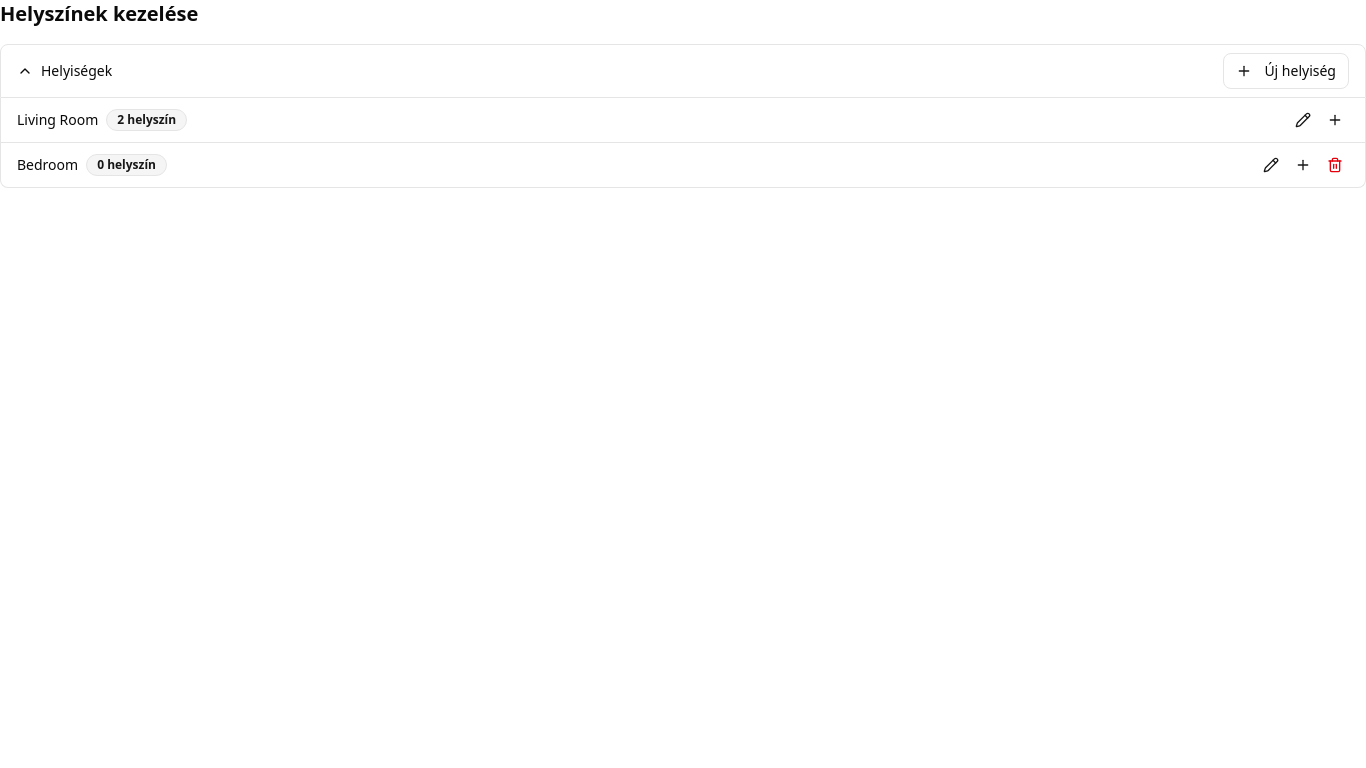
Scenario: LocationManagementPage — ADMIN interactions › clicking edit room button opens room form modal
Check: the text "Living Room" is shown, box [17,110,98,130]
Click the button named "Szerkesztés" in the row of "Living Room" at (1303, 120), box [1289,106,1317,134]
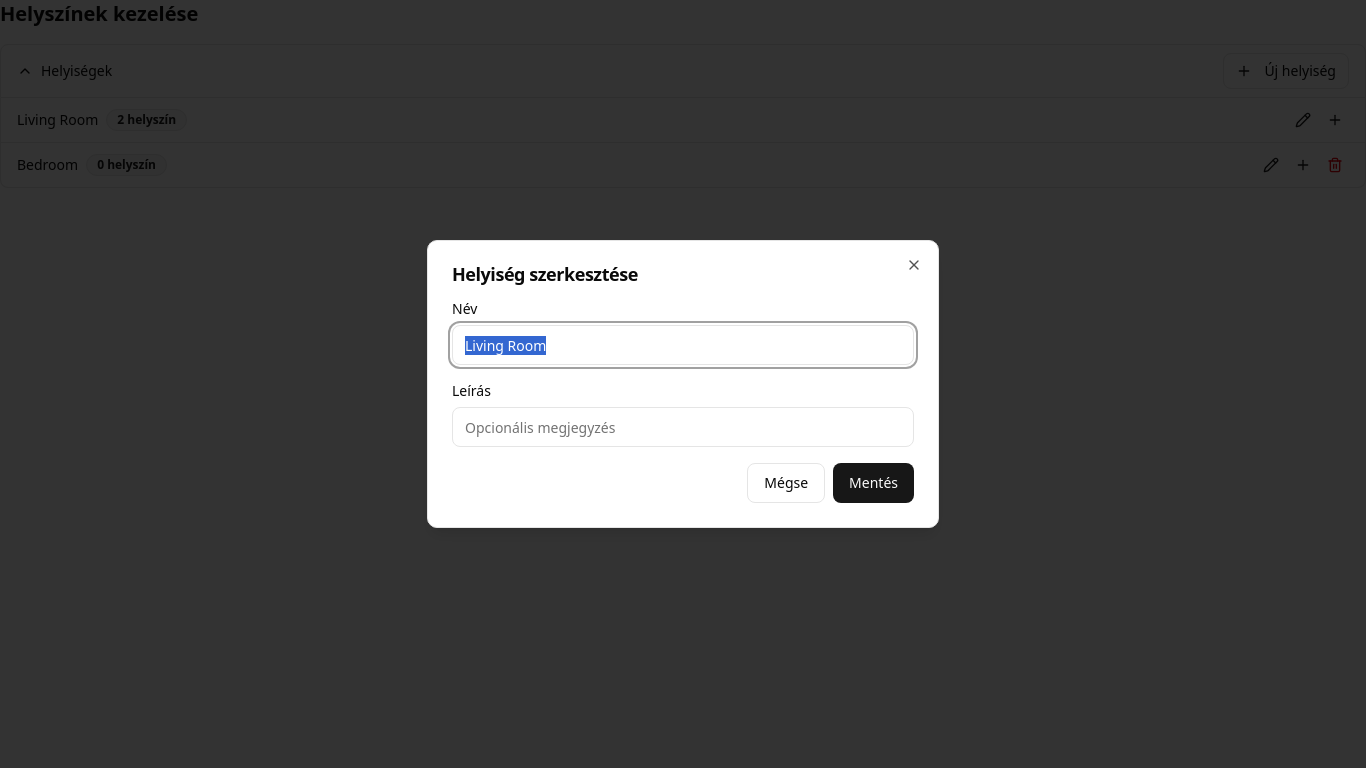
Check: the dialog is shown, box [427,240,939,528]
